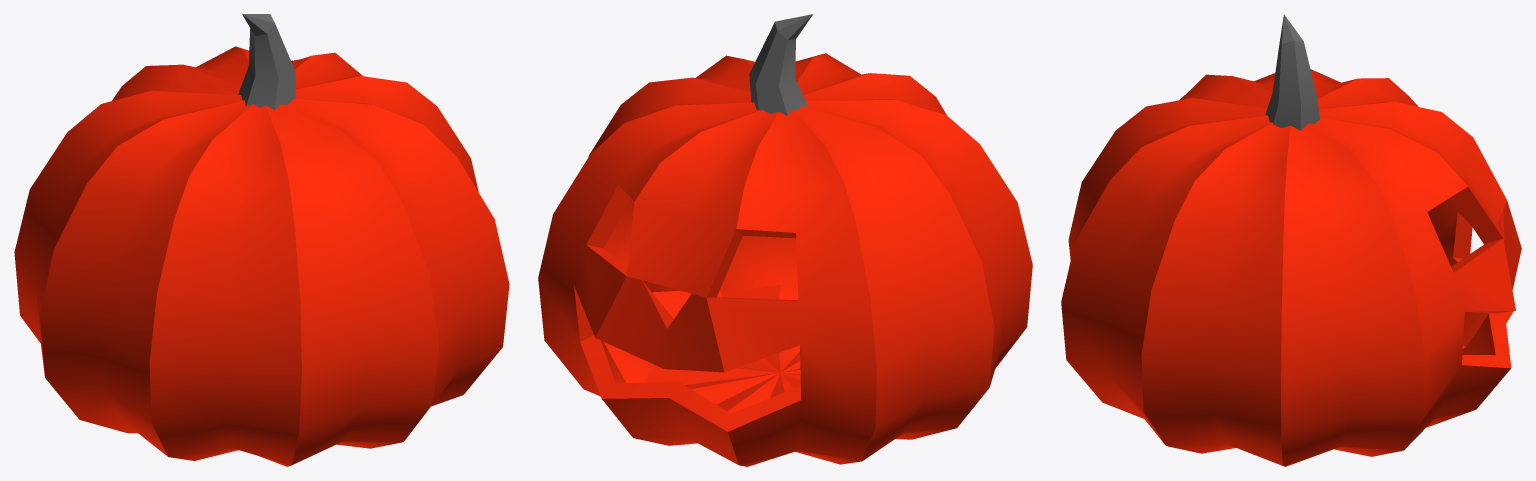
File: Abobora_01.fbx
3 views of the same model, side by side, from view 1: azimuth 30°, elevation 25°; view 2: azimuth 150°, elevation 25°; view 3: azimuth 270°, elevation 25° (orthographic). The views are drawn at different scales.
Parts seen in each view (by area): view 1: Abobora_01; view 2: Abobora_01; view 3: Abobora_01.
Boxes of the visible parts, x1,y1,x2,y2 form: Abobora_01: (14, 14, 509, 466); Abobora_01: (538, 14, 1032, 466); Abobora_01: (1061, 14, 1521, 466).
Bounding box in the file's own units: 3.98 × 3.5 × 3.84.
